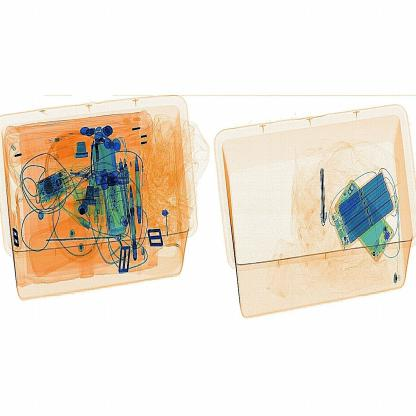knife: (316, 165, 331, 231)
